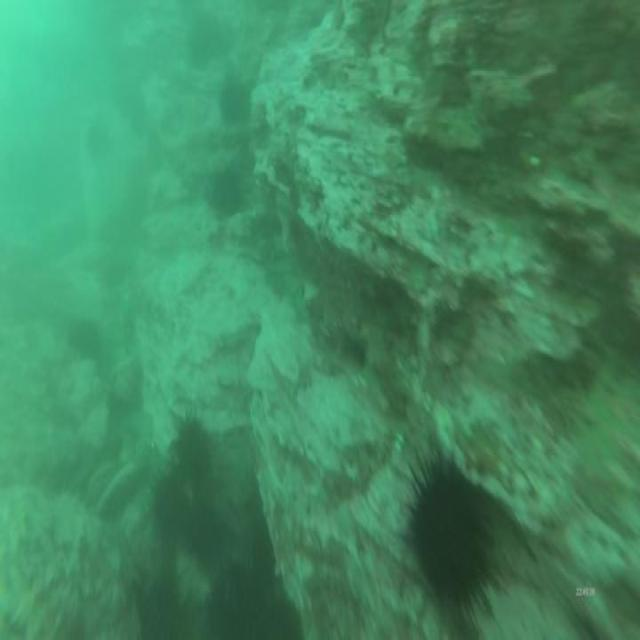echinus: (402, 444, 501, 632), (168, 409, 213, 492), (146, 468, 188, 540), (186, 494, 226, 560), (184, 14, 226, 68), (206, 164, 243, 224), (65, 313, 103, 368), (216, 80, 254, 130), (82, 120, 116, 164)
